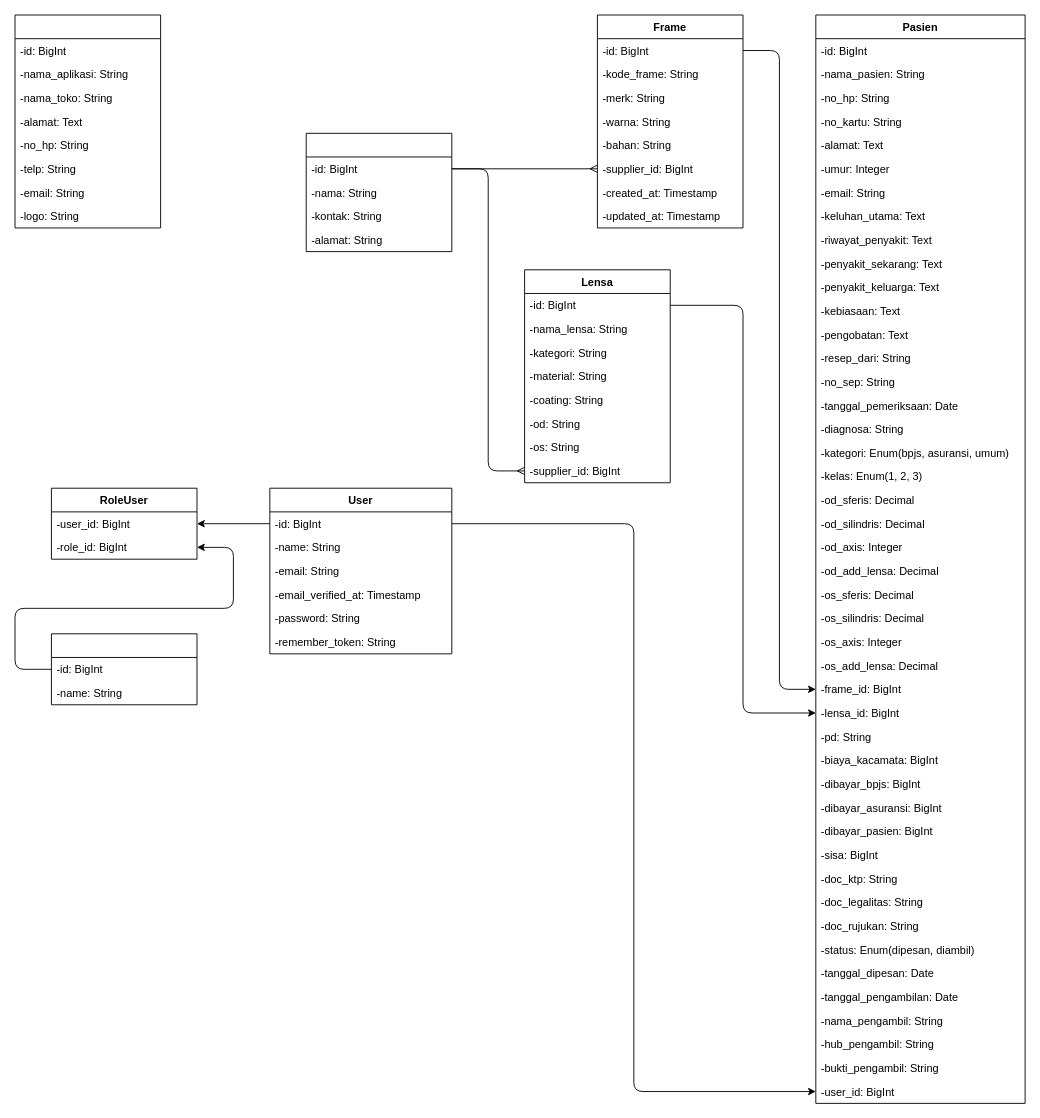
Some shapes in this 1040 by 1118 pixel diagram are drawn without their labels. Each missing label, with the box of its shape:
Pengaturan: (14, 14, 161, 228)
Role: (51, 633, 197, 705)
Supplier: (305, 132, 452, 252)
